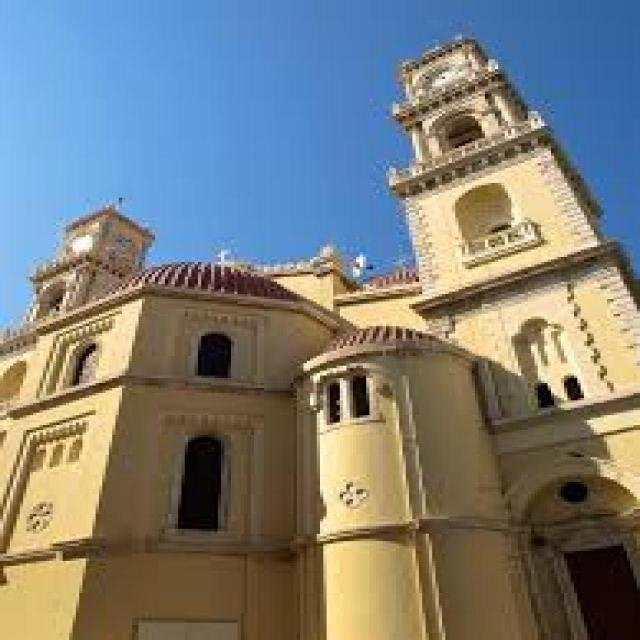Agios Minas: (1, 35, 640, 640)
